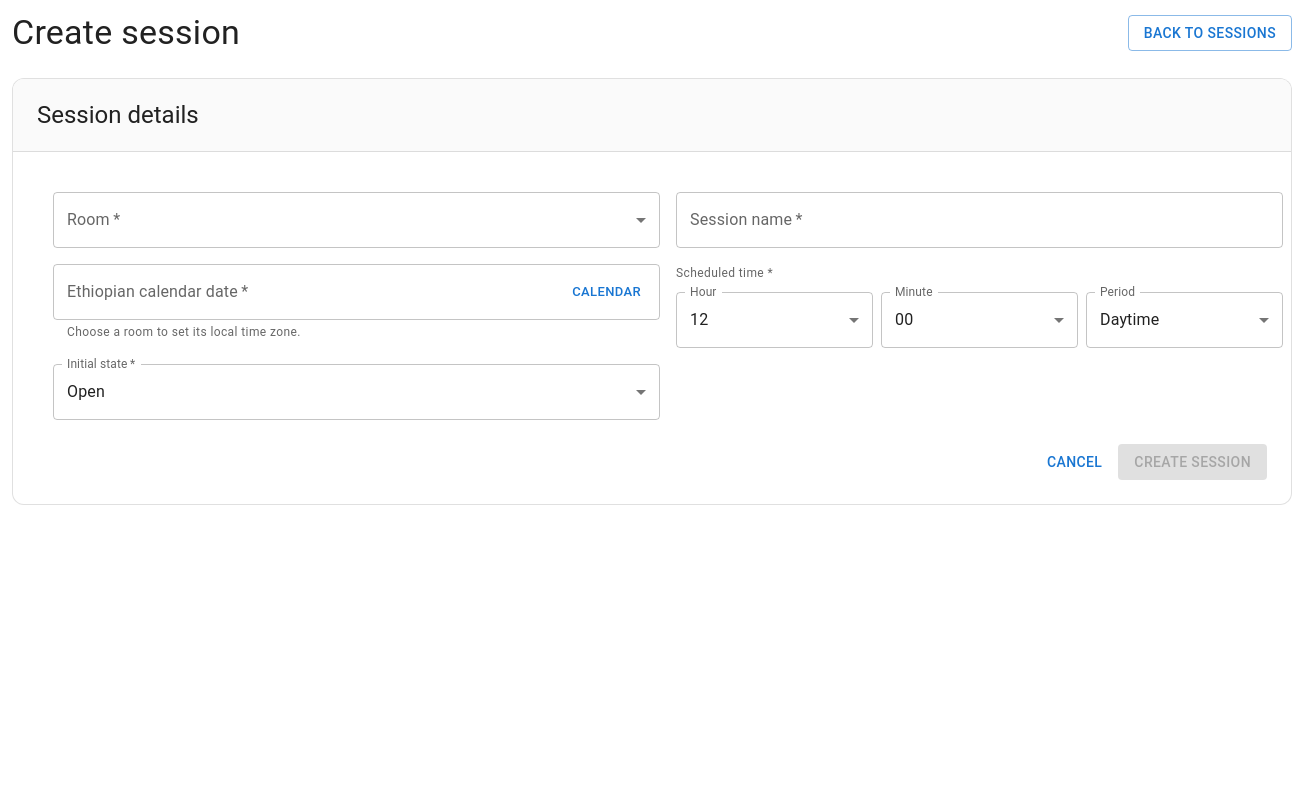
Test: SessionCreatePage › keeps entered session details after a create API failure
The image size is (1304, 812).
Click the dropdown named "Room" at (356, 220), box top-left (53, 192), bottom-right (660, 248)
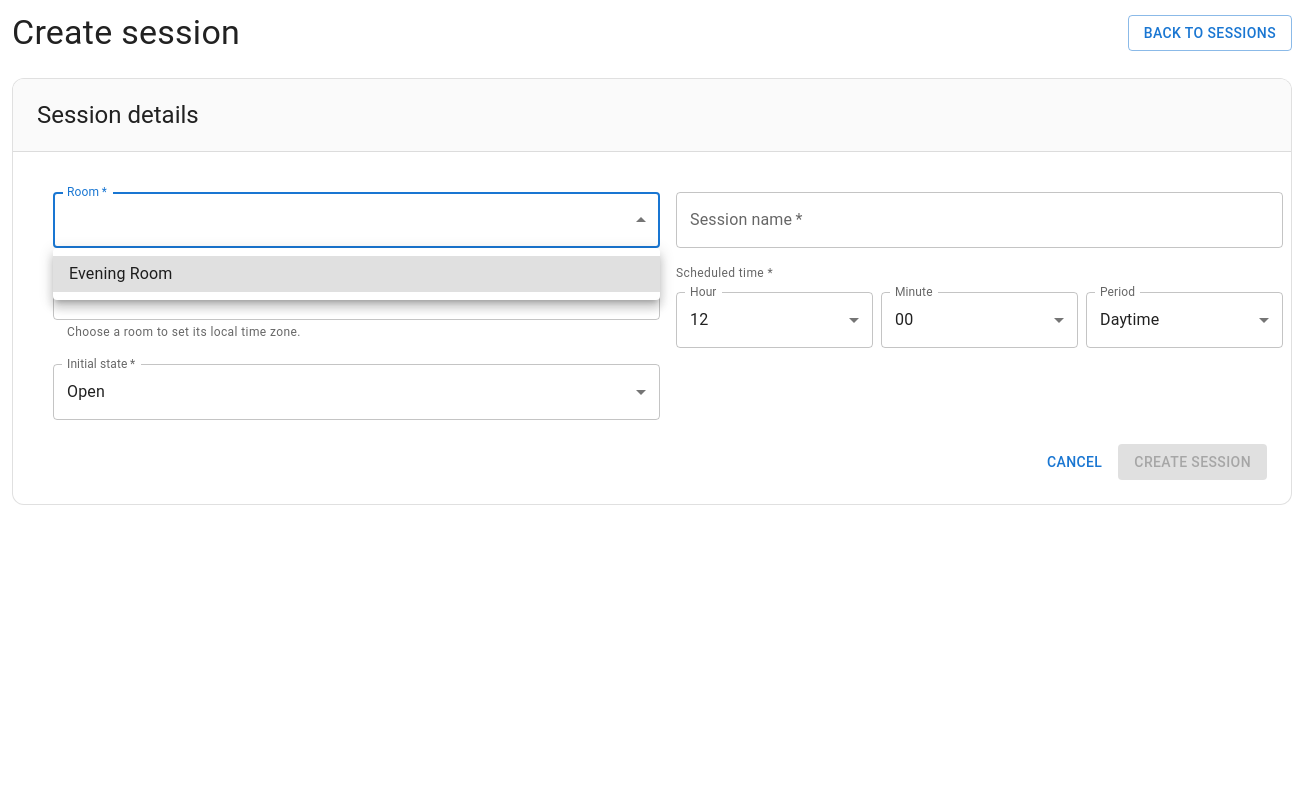
Click the option "Evening Room" at (121, 274), box top-left (53, 256), bottom-right (660, 292)
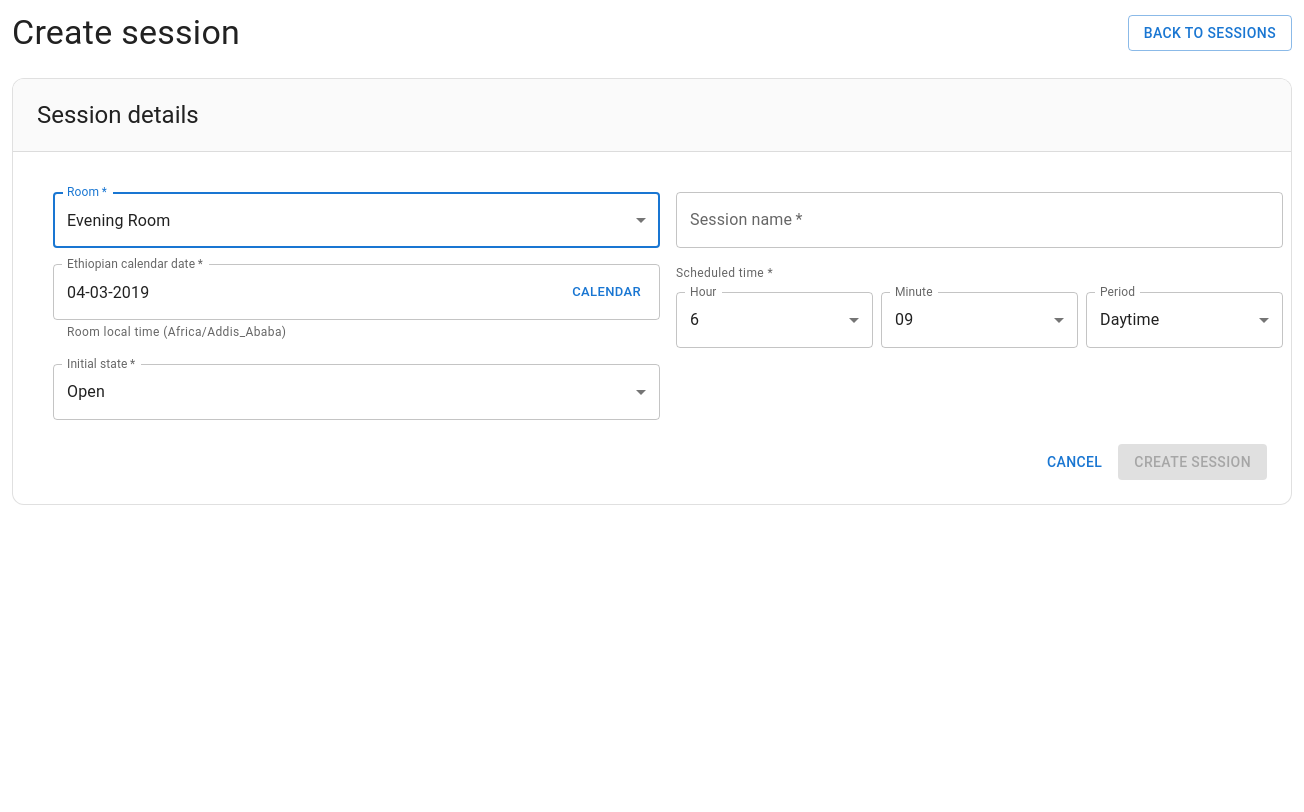
Type "Retry session" into the field labelled "Session name" at (980, 220), box top-left (676, 192), bottom-right (1283, 248)
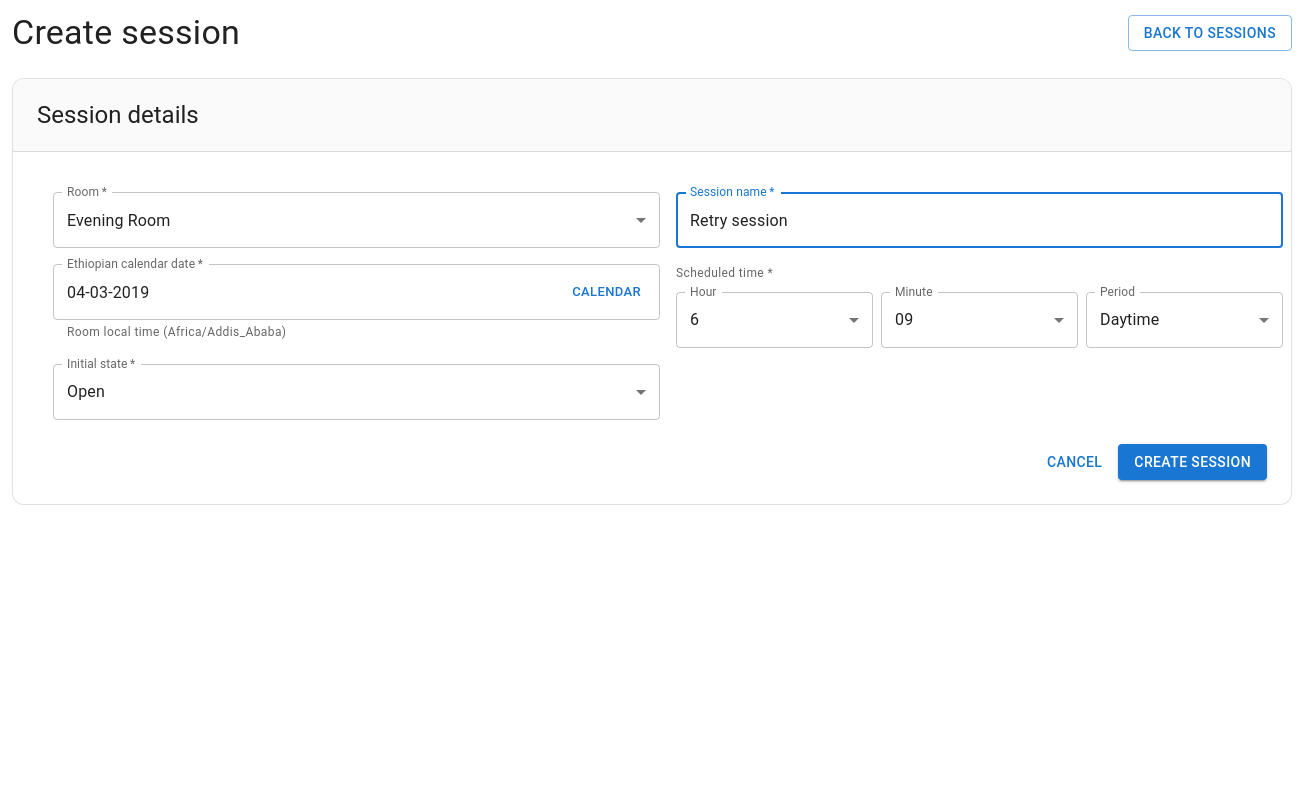
Click the button "Create session" at (1193, 462), box top-left (1118, 444), bottom-right (1267, 480)
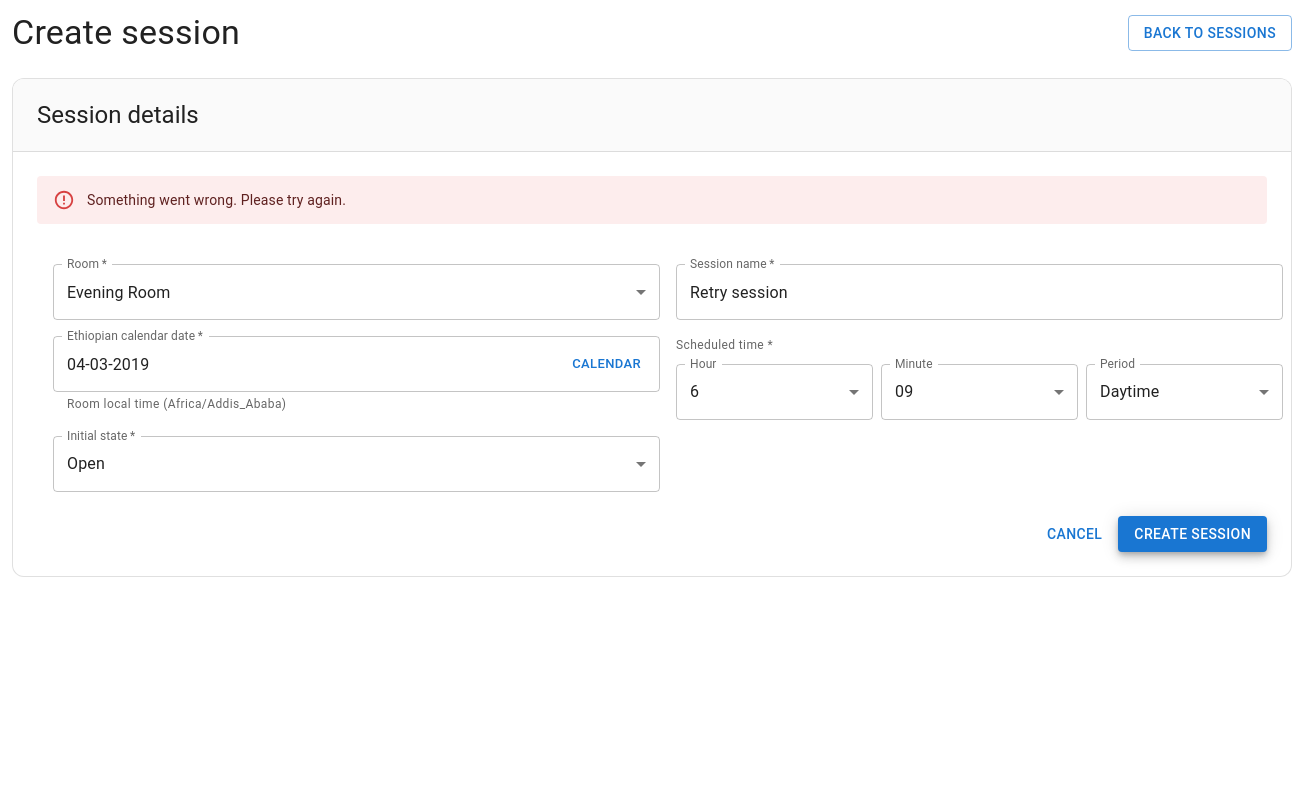
Expected: the message reads "Something went wrong. Please try again.", top-left (87, 192), bottom-right (346, 208)
